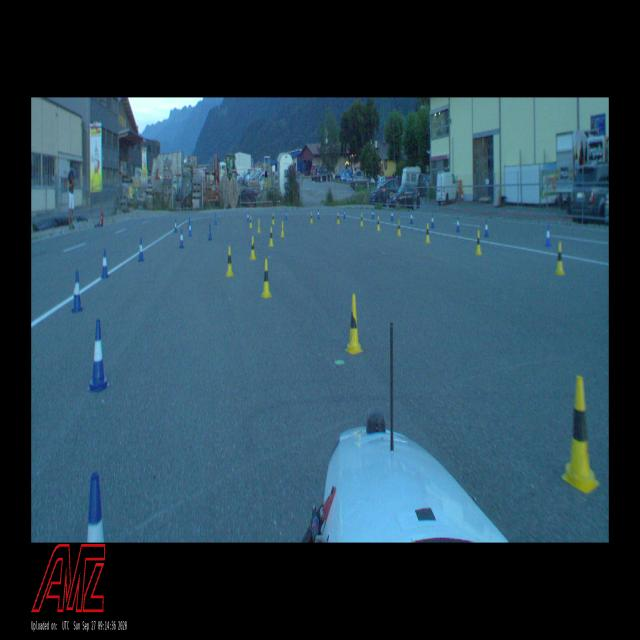blue_cone: (88, 320, 110, 390), (87, 472, 105, 542), (72, 269, 82, 312), (101, 248, 109, 278), (138, 237, 144, 262), (179, 229, 184, 248), (546, 226, 550, 247), (484, 220, 488, 236), (208, 225, 212, 240), (188, 222, 192, 236), (430, 215, 434, 228), (214, 213, 218, 225), (456, 217, 459, 232), (174, 218, 177, 232), (188, 216, 191, 228), (410, 212, 413, 223), (343, 208, 346, 218), (317, 210, 320, 219), (247, 211, 249, 222), (391, 210, 393, 220), (372, 209, 374, 219), (286, 210, 288, 219)
yellow_cone: (564, 378, 595, 494), (345, 294, 364, 354), (260, 259, 273, 297), (555, 242, 565, 274), (226, 246, 233, 276), (475, 231, 482, 255), (250, 235, 256, 260), (268, 227, 274, 246), (425, 223, 430, 243), (396, 220, 402, 236), (280, 222, 285, 237), (376, 216, 381, 231), (257, 218, 261, 232), (249, 215, 253, 228), (336, 212, 340, 224), (310, 212, 313, 224), (360, 213, 363, 225), (272, 212, 274, 224)
